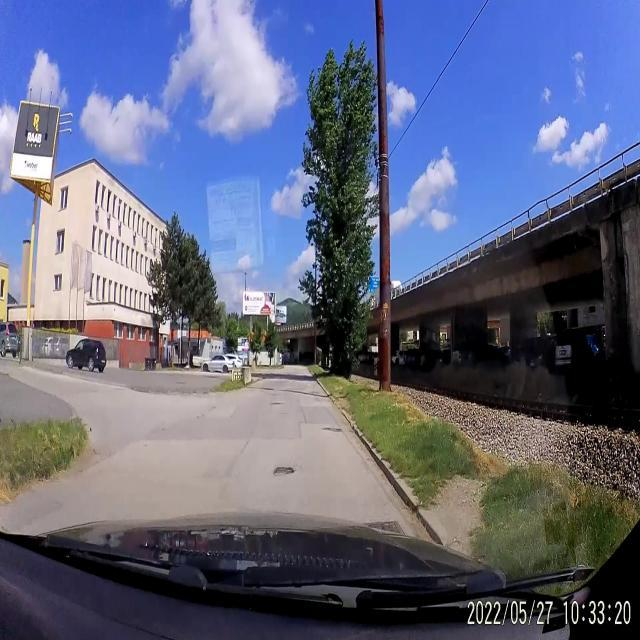Pothole: (272, 460, 298, 480), (319, 420, 342, 438), (268, 398, 284, 409)
